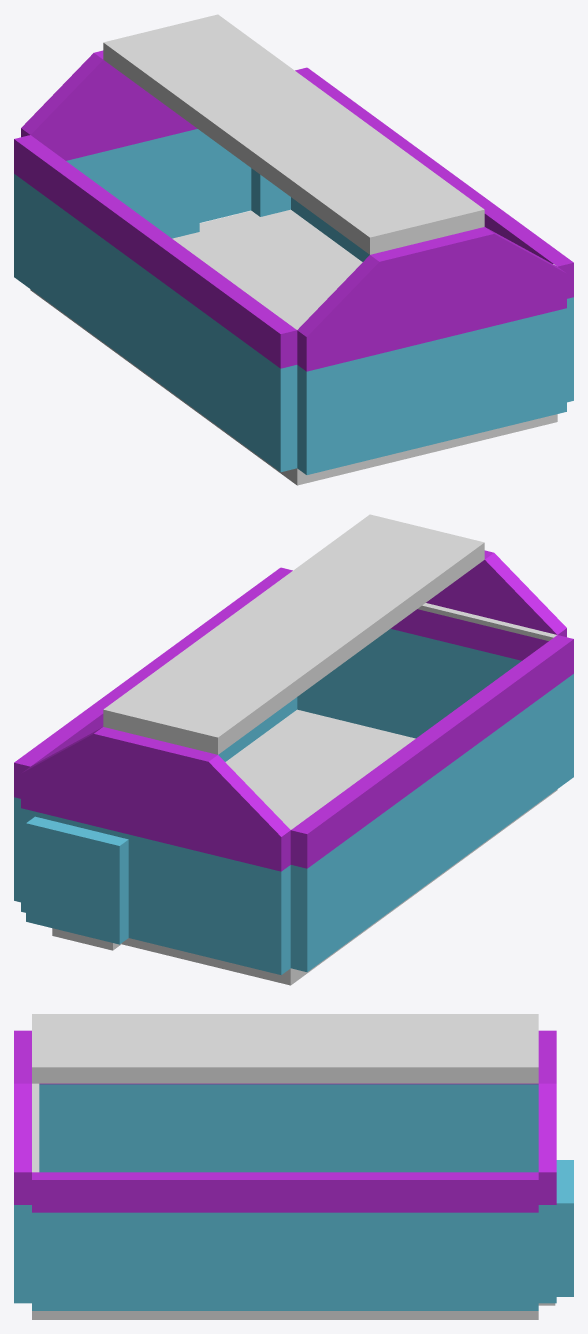
Rendered from MuseumRoomModelling_Room.fbx.
3 renders of one model, top to bottom at view 1: azimuth 30°, elevation 25°; view 2: azimuth 150°, elevation 25°; view 3: azimuth 270°, elevation 25°, orthographic. The views are drawn at different scales.
Parts seen in each view (by area): view 1: BackWall, SideWall1, Roof, EntranceWall, Floor, SideWall2; view 2: EntranceWall, SideWall1, Roof, BackWall, Floor, SideWall2, Trim; view 3: SideWall2, SideWall1, Roof, EntranceWall, BackWall, Floor, Trim.
Boxes of the visible parts, x1,y1,x2,y2 form: BackWall: (297, 227, 566, 474); SideWall1: (14, 135, 297, 472); Roof: (103, 14, 484, 254); EntranceWall: (21, 50, 290, 238); Floor: (30, 209, 557, 485); SideWall2: (291, 67, 573, 402); EntranceWall: (21, 727, 290, 974); SideWall1: (290, 635, 573, 972); Roof: (103, 514, 484, 754); BackWall: (297, 550, 566, 738); Floor: (52, 709, 557, 985); SideWall2: (14, 567, 297, 902); Trim: (418, 603, 556, 640); SideWall2: (32, 1172, 538, 1310); SideWall1: (39, 1083, 538, 1172); Roof: (32, 1014, 538, 1083); EntranceWall: (538, 1030, 573, 1303); BackWall: (14, 1030, 31, 1303); Floor: (32, 1303, 555, 1319); Trim: (32, 1083, 39, 1172).
Size of the model in its own units: 889 by 667 by 1547.
